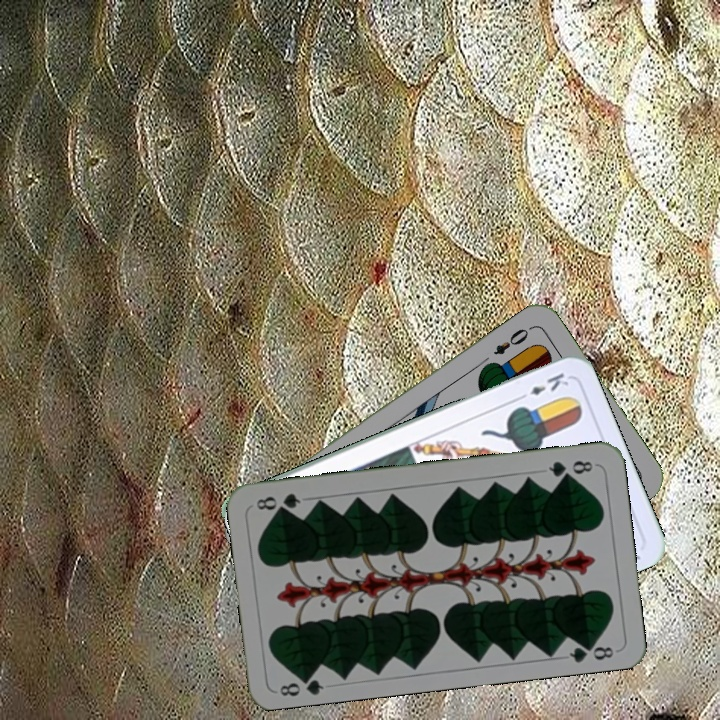EK: (513, 368, 572, 403)
EO: (489, 322, 535, 358)
G8: (276, 669, 326, 699), (544, 456, 596, 480)
